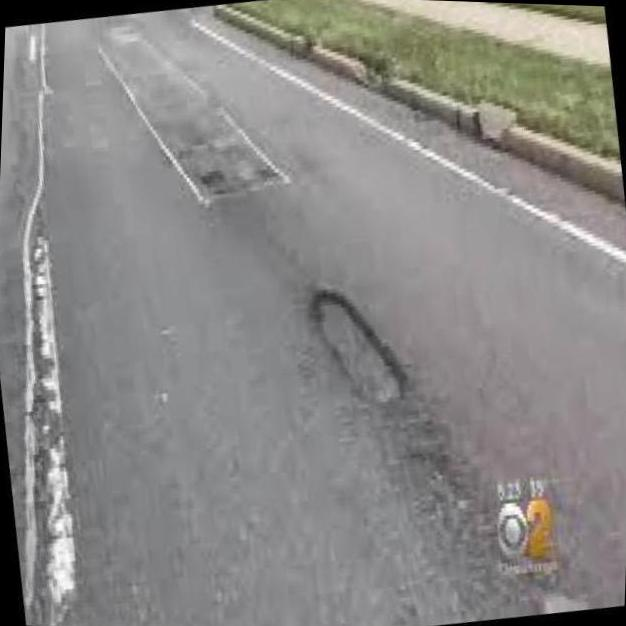pothole: (296, 288, 411, 408)
